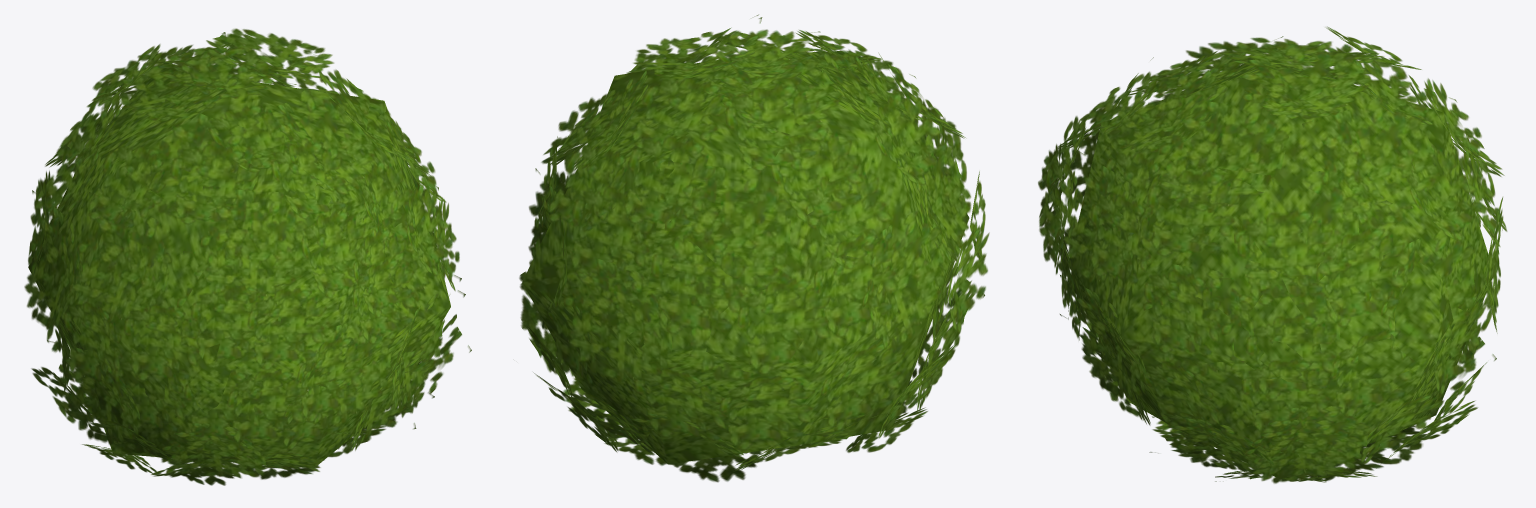
The model's file is buxus.glb.
3 renders of one model, left to right at view 1: azimuth 30°, elevation 25°; view 2: azimuth 150°, elevation 25°; view 3: azimuth 270°, elevation 25°, orthographic.
Visible parts, largest first — view 1: Bush_low; view 2: Bush_low; view 3: Bush_low.
Part boxes in pixels (x1,y1,x2,y2): Bush_low: (24, 28, 471, 485); Bush_low: (519, 14, 989, 482); Bush_low: (1038, 26, 1507, 483).
Bounding box in the file's own units: 0.0569 × 0.0523 × 0.0606.
1 material, 1 textured.
